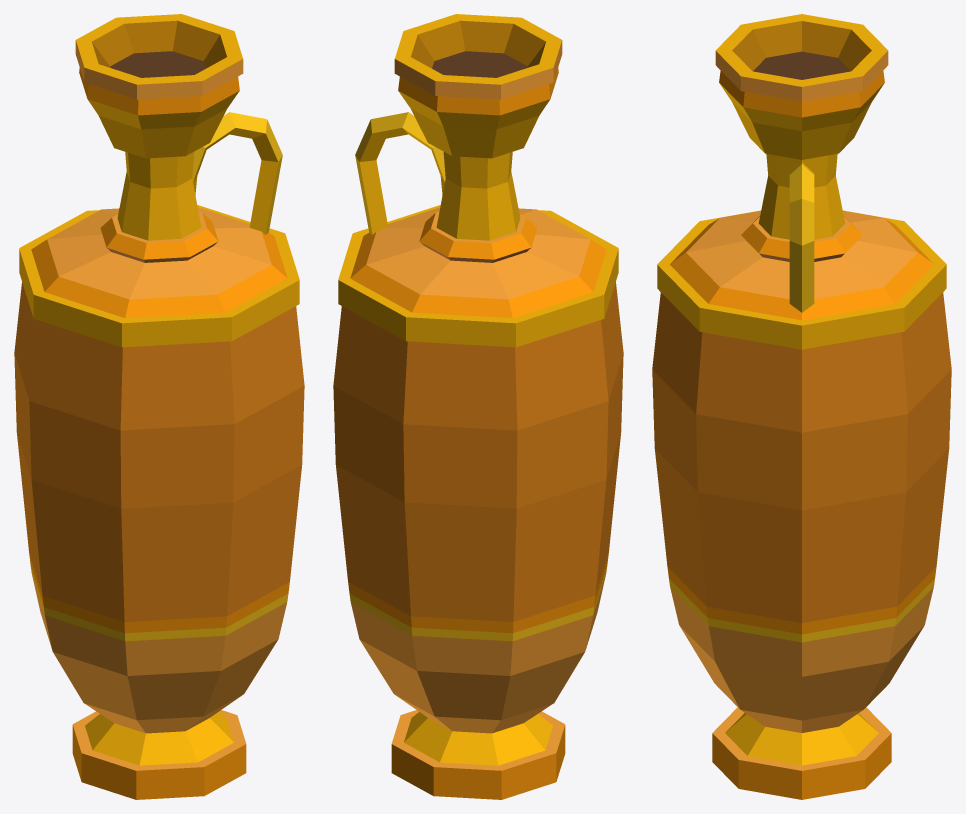
File: Vase_05.glb
The picture shows the model from 3 angles, left to right: view 1: azimuth 30°, elevation 25°; view 2: azimuth 150°, elevation 25°; view 3: azimuth 270°, elevation 25°; orthographic projection.
Visible parts, largest first — view 1: Vase_05; view 2: Vase_05; view 3: Vase_05.
Boxes of the visible parts, bbox=[...] form: Vase_05: bbox=[14, 14, 304, 799]; Vase_05: bbox=[333, 14, 623, 799]; Vase_05: bbox=[652, 14, 951, 799].
Size of what is drawn, in the model's own units: 0.3629 by 0.9514 by 0.3629.
1 material, 1 textured.
